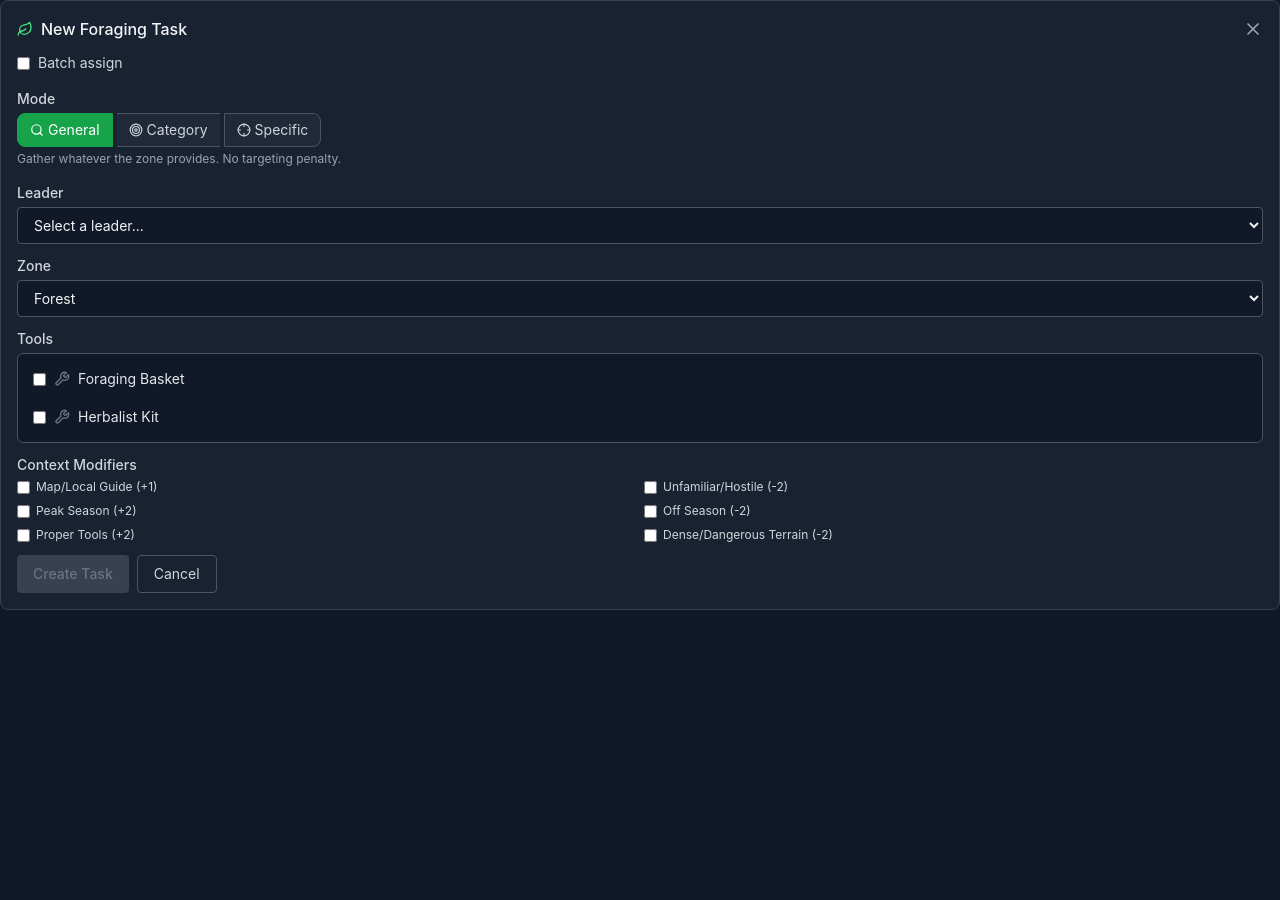
Test: ForagingTaskForm › mode switching › shows category and item dropdowns when specific mode selected
Step 1. Click the button with test id "mode-specific" → (272, 130), box [224, 113, 321, 147]
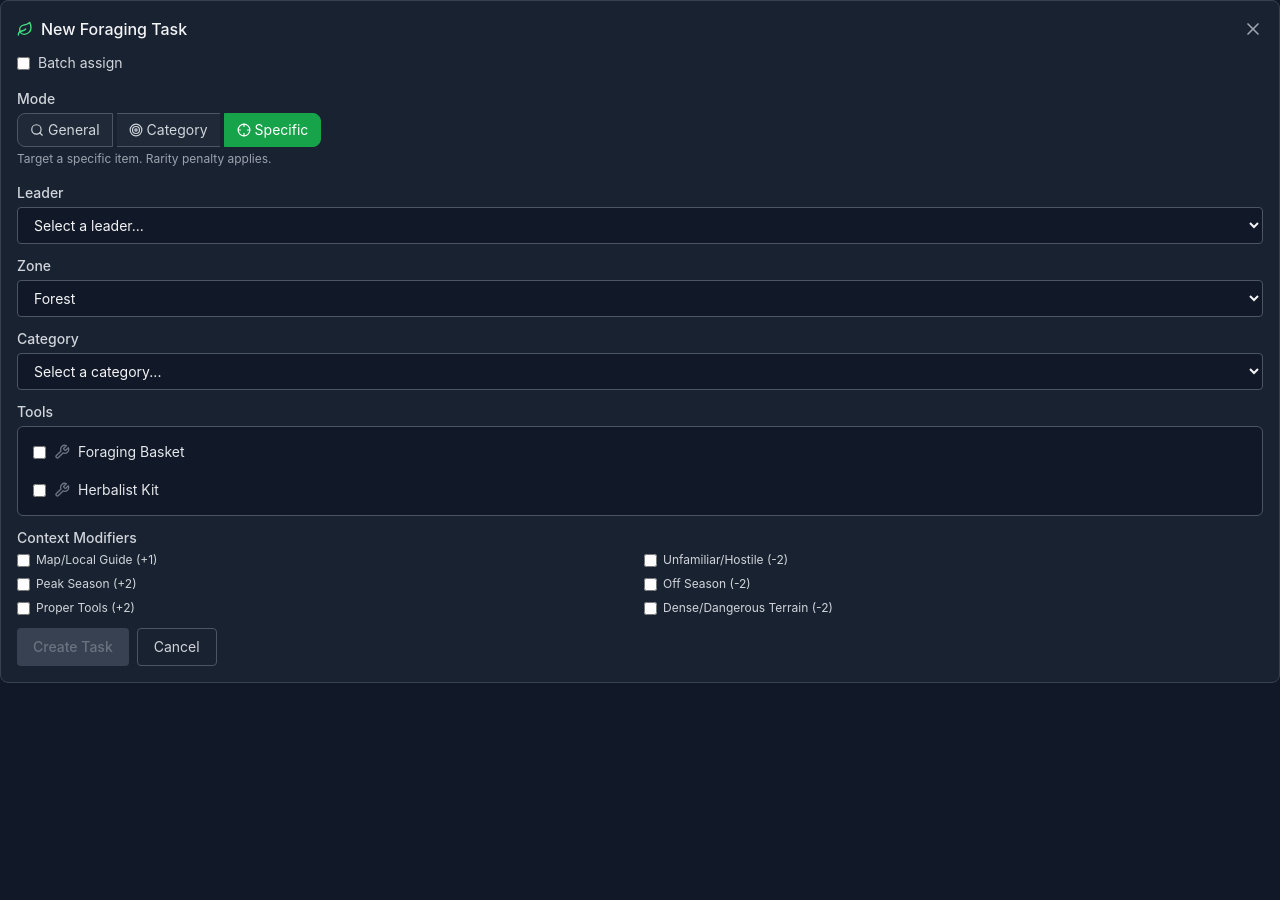
Now the dropdown with test id "category-select" is shown, box [17, 353, 1263, 390]
Now the text "Target a specific item. Rarity penalty applies." is shown, box [17, 151, 272, 166]
